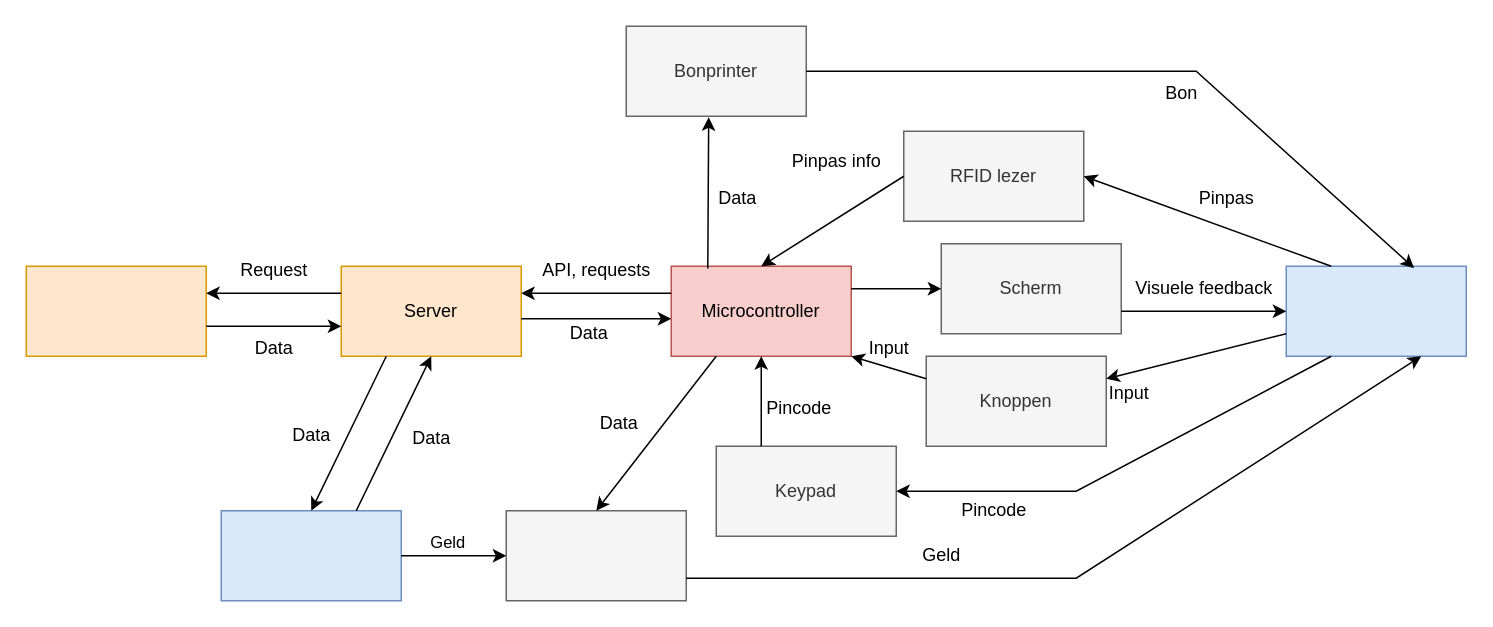
The diagram is 1493 pixels wide and 627 high, and some of its shapes have lost their labels. Each missing label, with the box of its shape:
Admin: (220, 509, 401, 601)
Database: (25, 265, 206, 356)
Gebruiker: (1285, 265, 1466, 356)
Geld dispenser: (505, 509, 686, 601)
